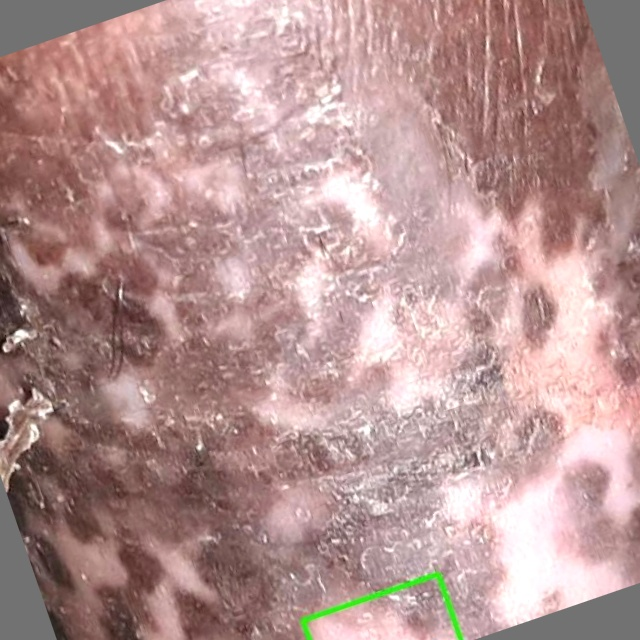Eczema: (302, 574, 460, 639)
